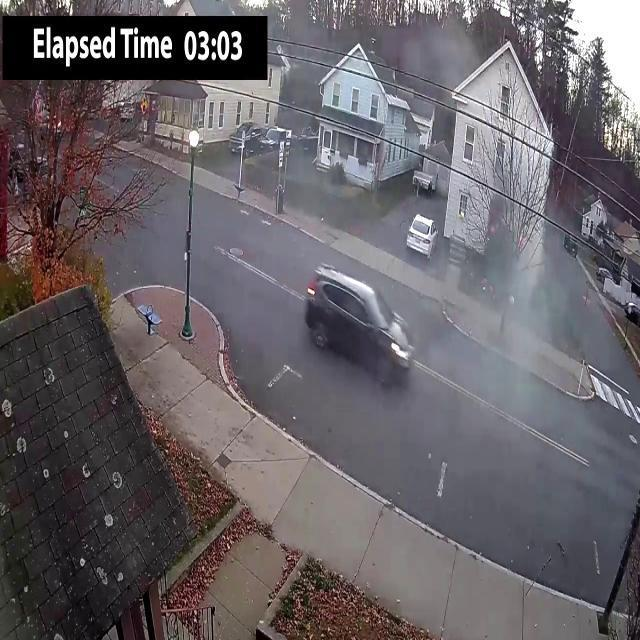Smoke: (386, 207, 590, 505), (398, 5, 482, 128)
